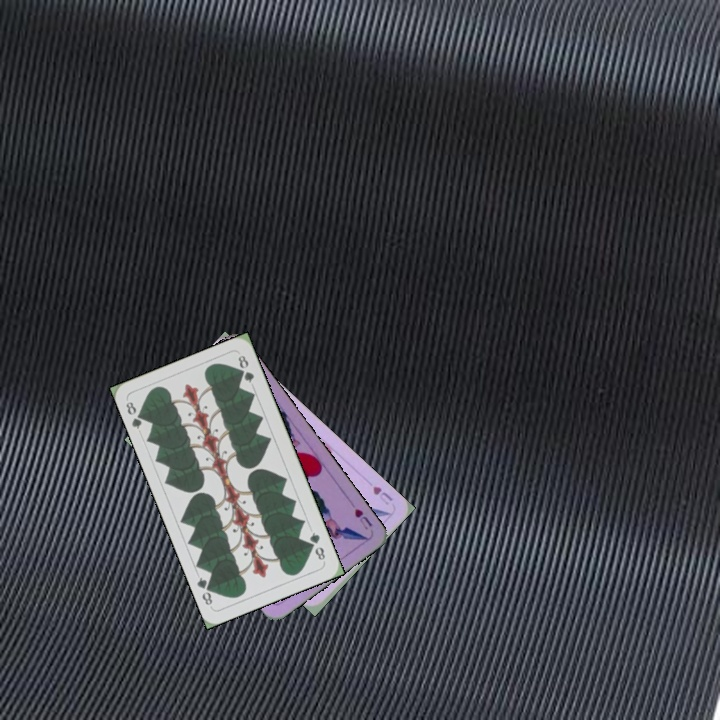G8: (305, 528, 328, 565), (122, 398, 147, 432)
HU: (350, 504, 375, 533), (369, 482, 395, 508)
